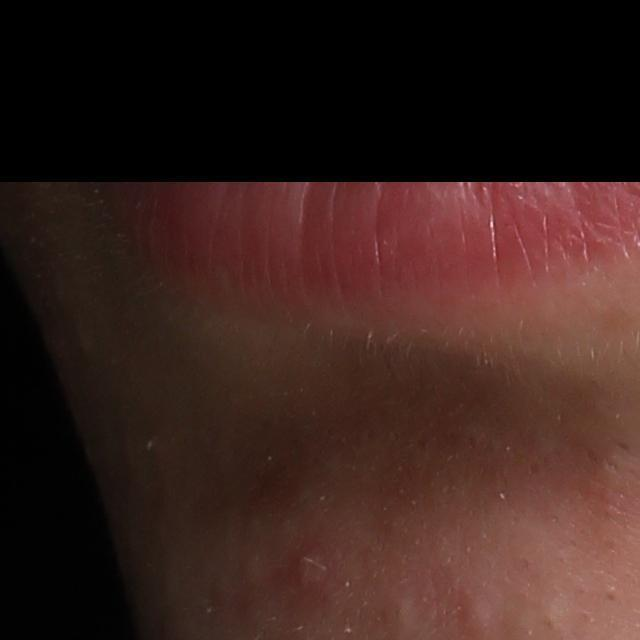comedo: (603, 585, 617, 604)
papule: (274, 540, 340, 626)
